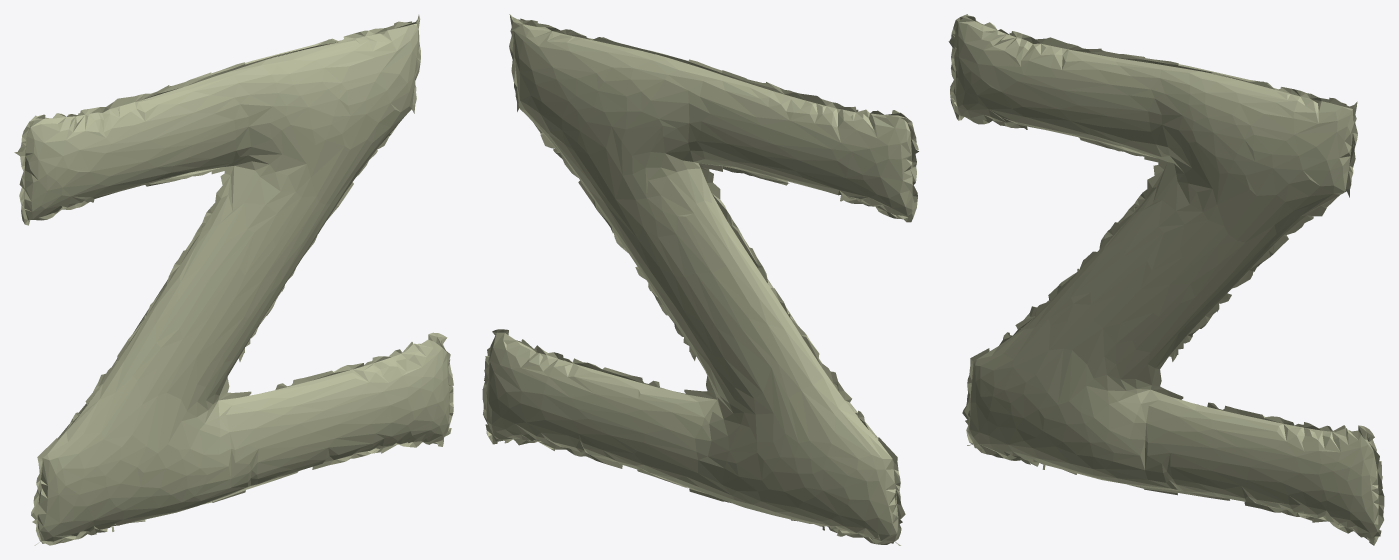
Rendered from tinker.obj.
3 renders of one model, left to right at view 1: azimuth 30°, elevation 25°; view 2: azimuth 150°, elevation 25°; view 3: azimuth 330°, elevation 25°, orthographic.
Visible parts, largest first — view 1: obj_0; view 2: obj_0; view 3: obj_0.
Part boxes in pixels (box(x1,y1,x2,y2)): obj_0: box(14, 15, 453, 545); obj_0: box(482, 14, 918, 545); obj_0: box(948, 14, 1384, 545).
Size of the model in its own units: 16.44 by 15.82 by 2.12.
